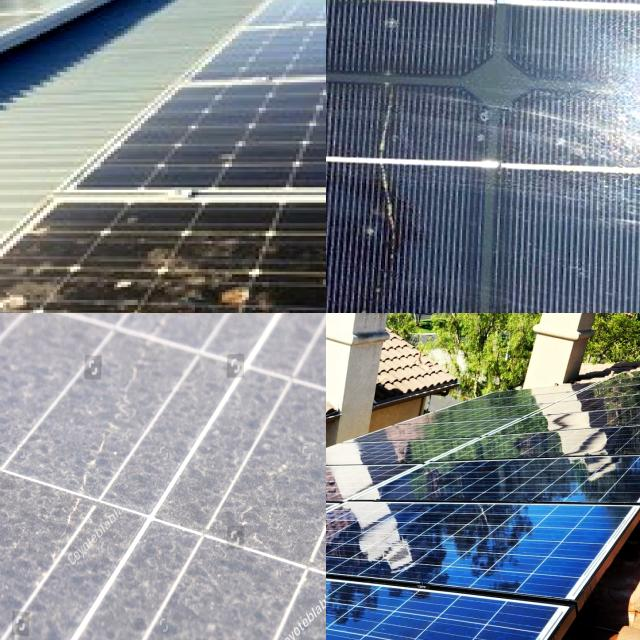bird: (127, 232, 264, 266), (196, 276, 315, 313), (0, 268, 78, 313)
crack: (338, 506, 602, 600), (384, 451, 640, 505), (434, 432, 640, 466), (326, 493, 425, 563), (326, 435, 465, 470), (326, 464, 430, 502), (326, 627, 410, 640)
dust: (0, 313, 85, 567), (121, 360, 245, 512), (132, 561, 280, 640)
shadow: (335, 61, 424, 313)
